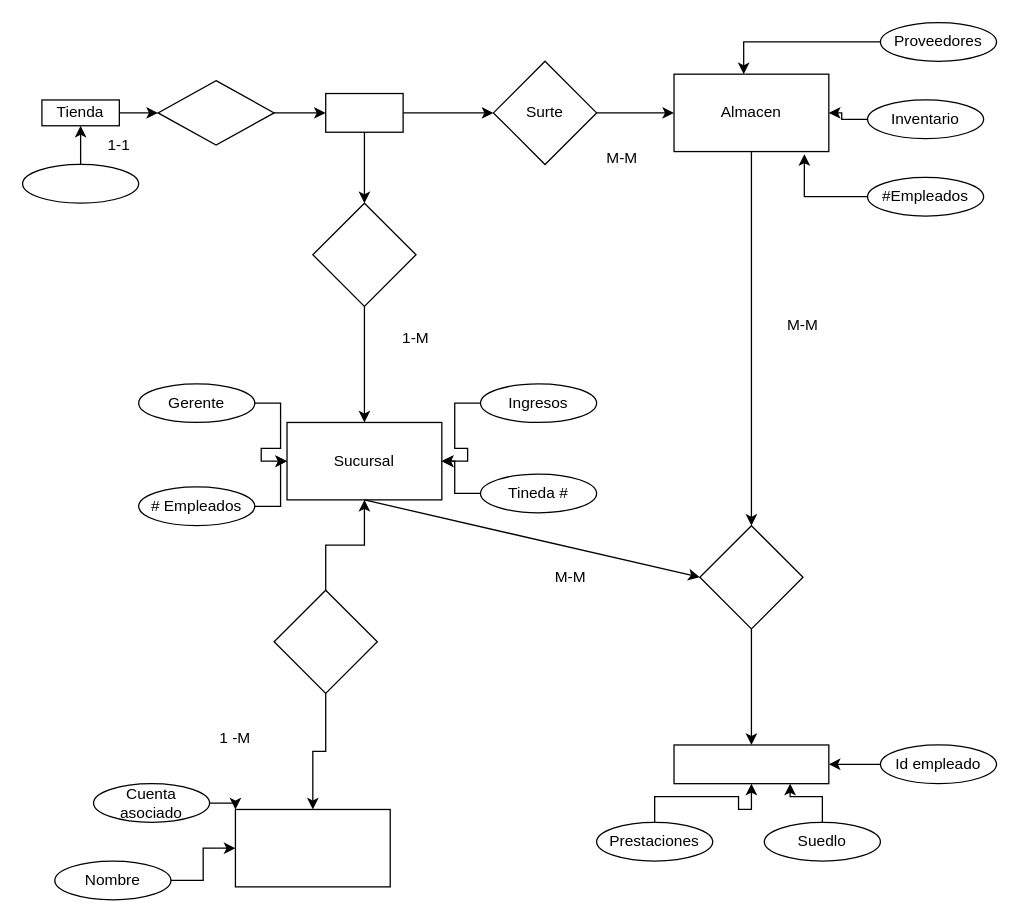
The diagram is 1019 pixels wide and 922 high, and some of its shapes have lost their labels. The shapes that lost their labels are listed below. From the top down, each one's box as (x1, y1, x2, y2) in pixels, then its label:
(157, 79, 274, 145): Esta
(324, 92, 403, 132): Ubicacion
(21, 163, 139, 203): Marca
(312, 202, 416, 306): Existe
(699, 524, 803, 629): Cobran
(273, 589, 377, 693): Compran
(673, 744, 829, 784): Empleado
(234, 808, 390, 887): Cliente
